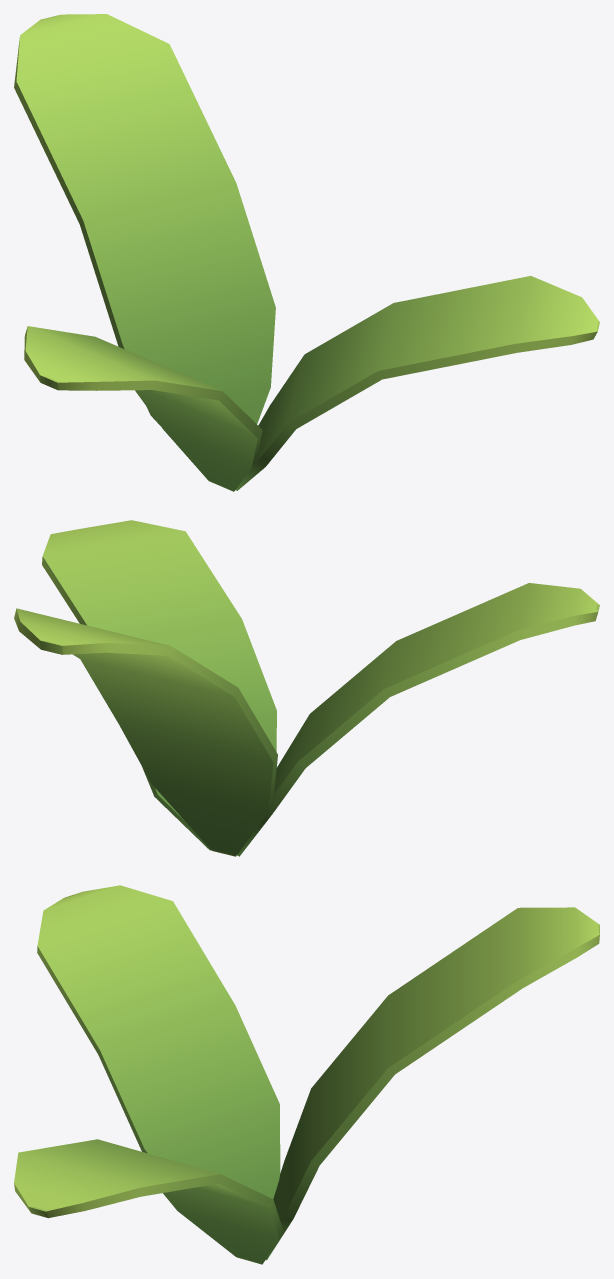
File: Sketchfab_2022_11_16_13_08_28.fbx
The picture shows the model from 3 angles, top to bottom: view 1: azimuth 30°, elevation 25°; view 2: azimuth 150°, elevation 25°; view 3: azimuth 270°, elevation 25°; orthographic projection. The views are drawn at different scales.
Parts seen in each view (by area): view 1: Grass; view 2: Grass; view 3: Grass.
Boxes of the visible parts, bbox=[...] form: Grass: bbox=[14, 14, 599, 491]; Grass: bbox=[14, 520, 599, 856]; Grass: bbox=[14, 885, 599, 1264].
Size of the model in its own units: 247 by 147 by 237.
